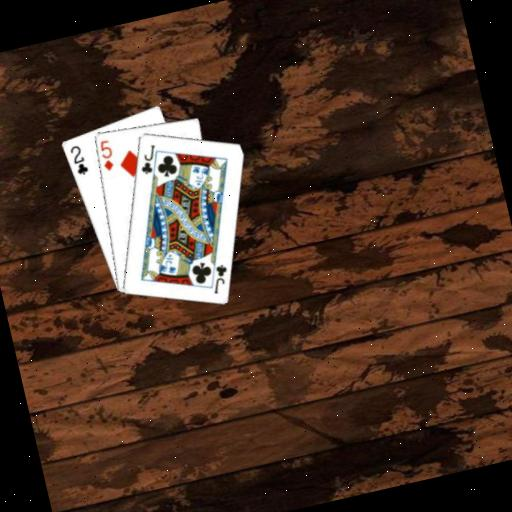2C: (66, 141, 91, 179)
5D: (95, 136, 117, 173)
JC: (133, 141, 163, 177), (204, 260, 234, 296)
